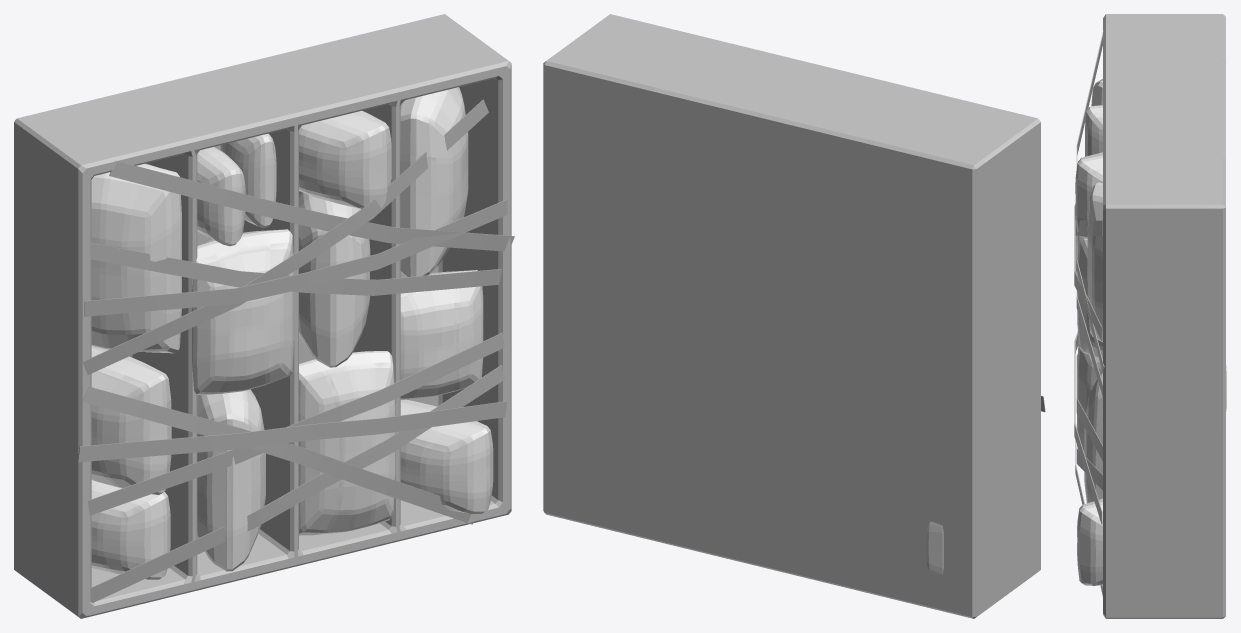
Rendered from wall_10x10_storage_04.fbx.
3 views of the same model, side by side, from view 1: azimuth 30°, elevation 25°; view 2: azimuth 150°, elevation 25°; view 3: azimuth 270°, elevation 25° (orthographic). The views are drawn at different scales.
Visible parts, largest first — view 1: wall_10x10_storage_04; view 2: wall_10x10_storage_04; view 3: wall_10x10_storage_04.
Boxes of the visible parts, x1,y1,x2,y2 form: wall_10x10_storage_04: (14, 14, 514, 618); wall_10x10_storage_04: (543, 14, 1045, 618); wall_10x10_storage_04: (1074, 14, 1226, 618).
Bounding box in the file's own units: 10.1 × 10.01 × 3.34.
